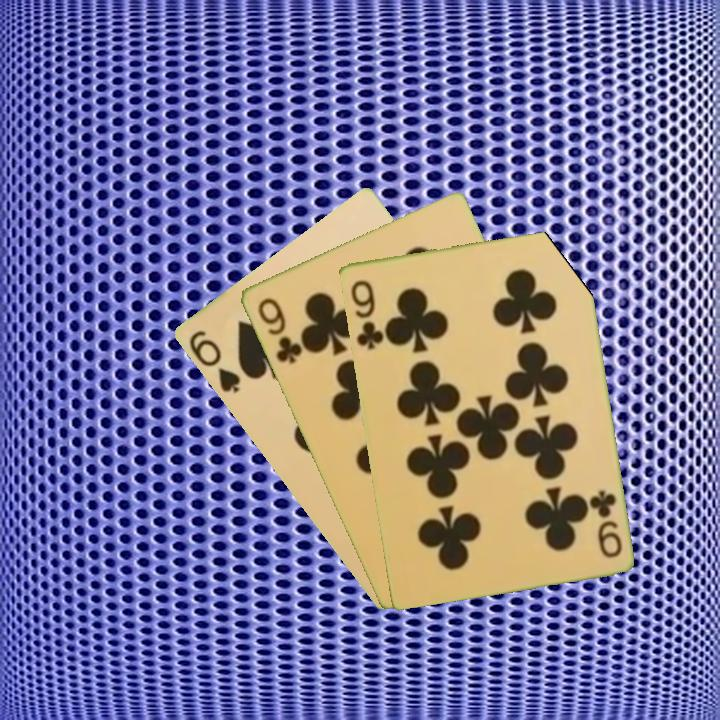6s: (184, 326, 243, 396)
9c: (253, 294, 305, 366), (346, 276, 386, 353), (586, 486, 625, 560)
